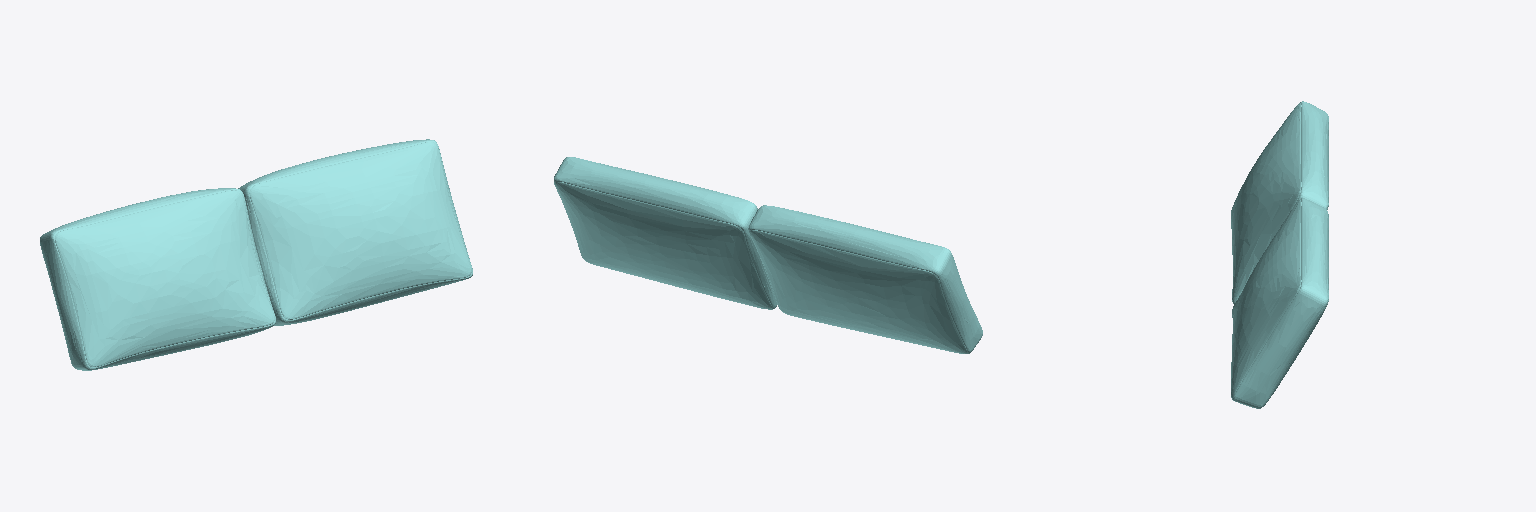
The model's file is fm1_design1_back2.obj.
3 views of the same model, side by side, from view 1: azimuth 30°, elevation 25°; view 2: azimuth 150°, elevation 25°; view 3: azimuth 270°, elevation 25° (orthographic).
Visible parts, largest first — view 1: Box550; view 2: Box550; view 3: Box550.
Boxes of the visible parts, x1,y1,x2,y2 form: Box550: [40, 139, 472, 370]; Box550: [554, 157, 982, 353]; Box550: [1231, 101, 1328, 408].
Size of the model in its own units: 1273 by 397 by 275.